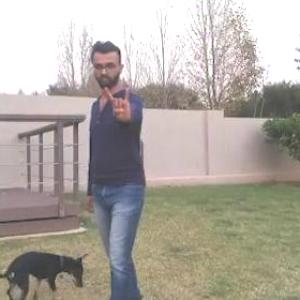takeoff-hand: (102, 80, 135, 122)
